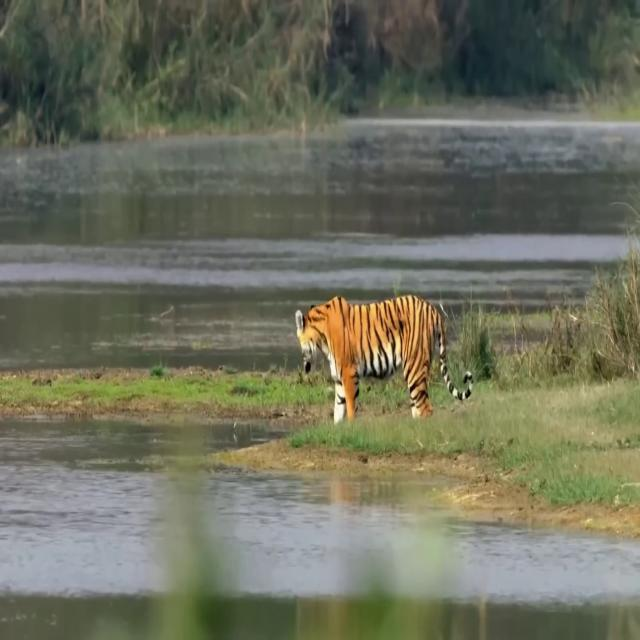tiger: (295, 294, 474, 424)
